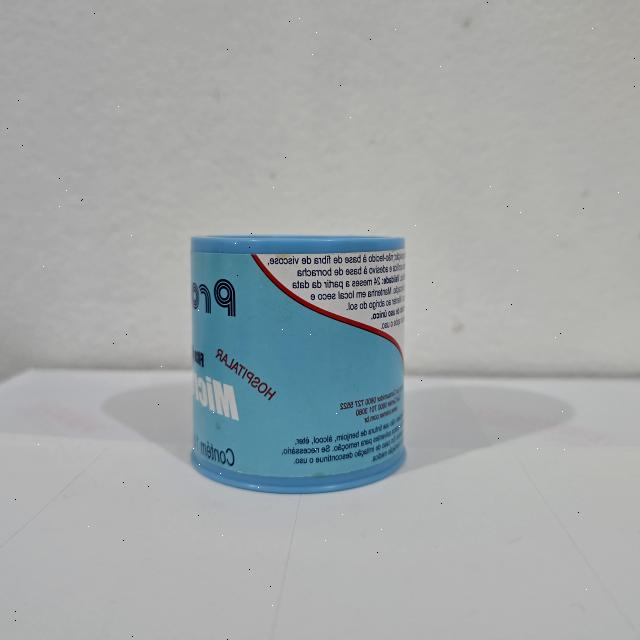procitex: (186, 232, 411, 500)
